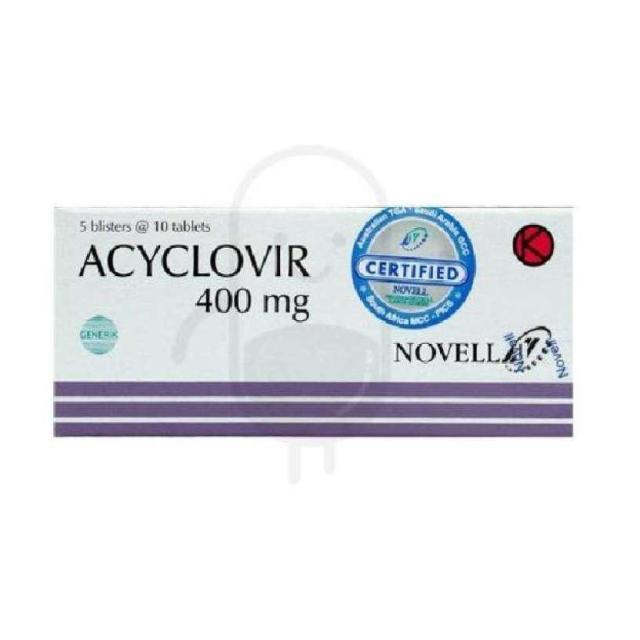drug-name: (74, 238, 314, 286)
